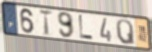4: (99, 18, 113, 43)
6: (20, 8, 35, 34)
9: (57, 11, 76, 40)
L: (78, 14, 94, 42)
Q: (115, 18, 137, 47)
T: (38, 9, 54, 38)
